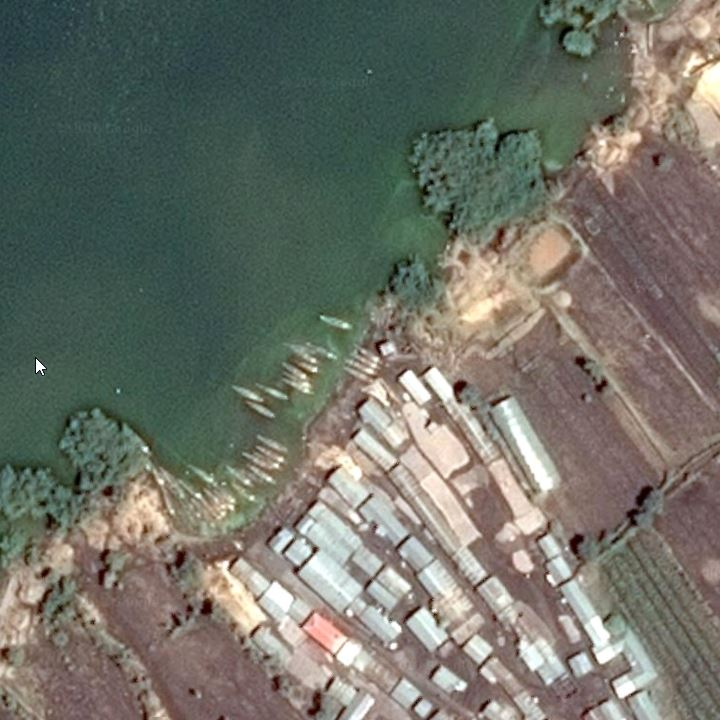boat: (185, 498, 217, 527), (201, 486, 234, 513), (241, 398, 278, 422), (160, 468, 186, 502), (225, 478, 260, 503), (242, 461, 278, 485), (316, 312, 357, 333), (230, 383, 269, 405), (252, 380, 291, 402), (194, 492, 223, 521), (254, 433, 292, 455), (187, 463, 221, 487), (282, 342, 320, 363), (223, 462, 252, 489), (240, 451, 277, 472), (304, 340, 341, 361), (207, 484, 239, 508), (353, 343, 387, 365), (346, 350, 383, 370), (251, 450, 283, 472), (286, 356, 323, 375), (340, 364, 375, 384), (281, 377, 315, 397), (278, 360, 312, 380), (235, 464, 267, 485), (253, 443, 285, 464), (282, 371, 316, 390), (342, 358, 378, 375), (173, 478, 200, 500)
